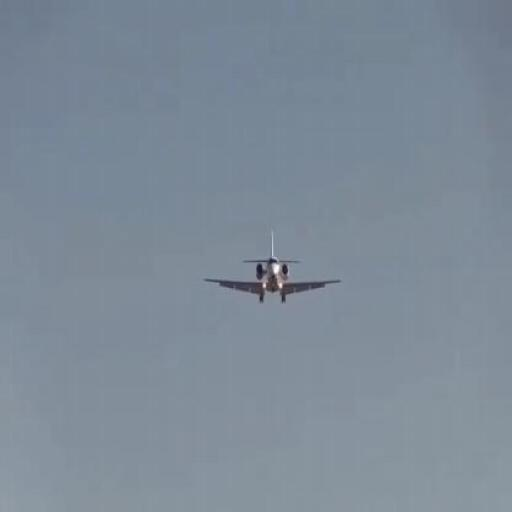aircraft: (203, 230, 342, 305)
